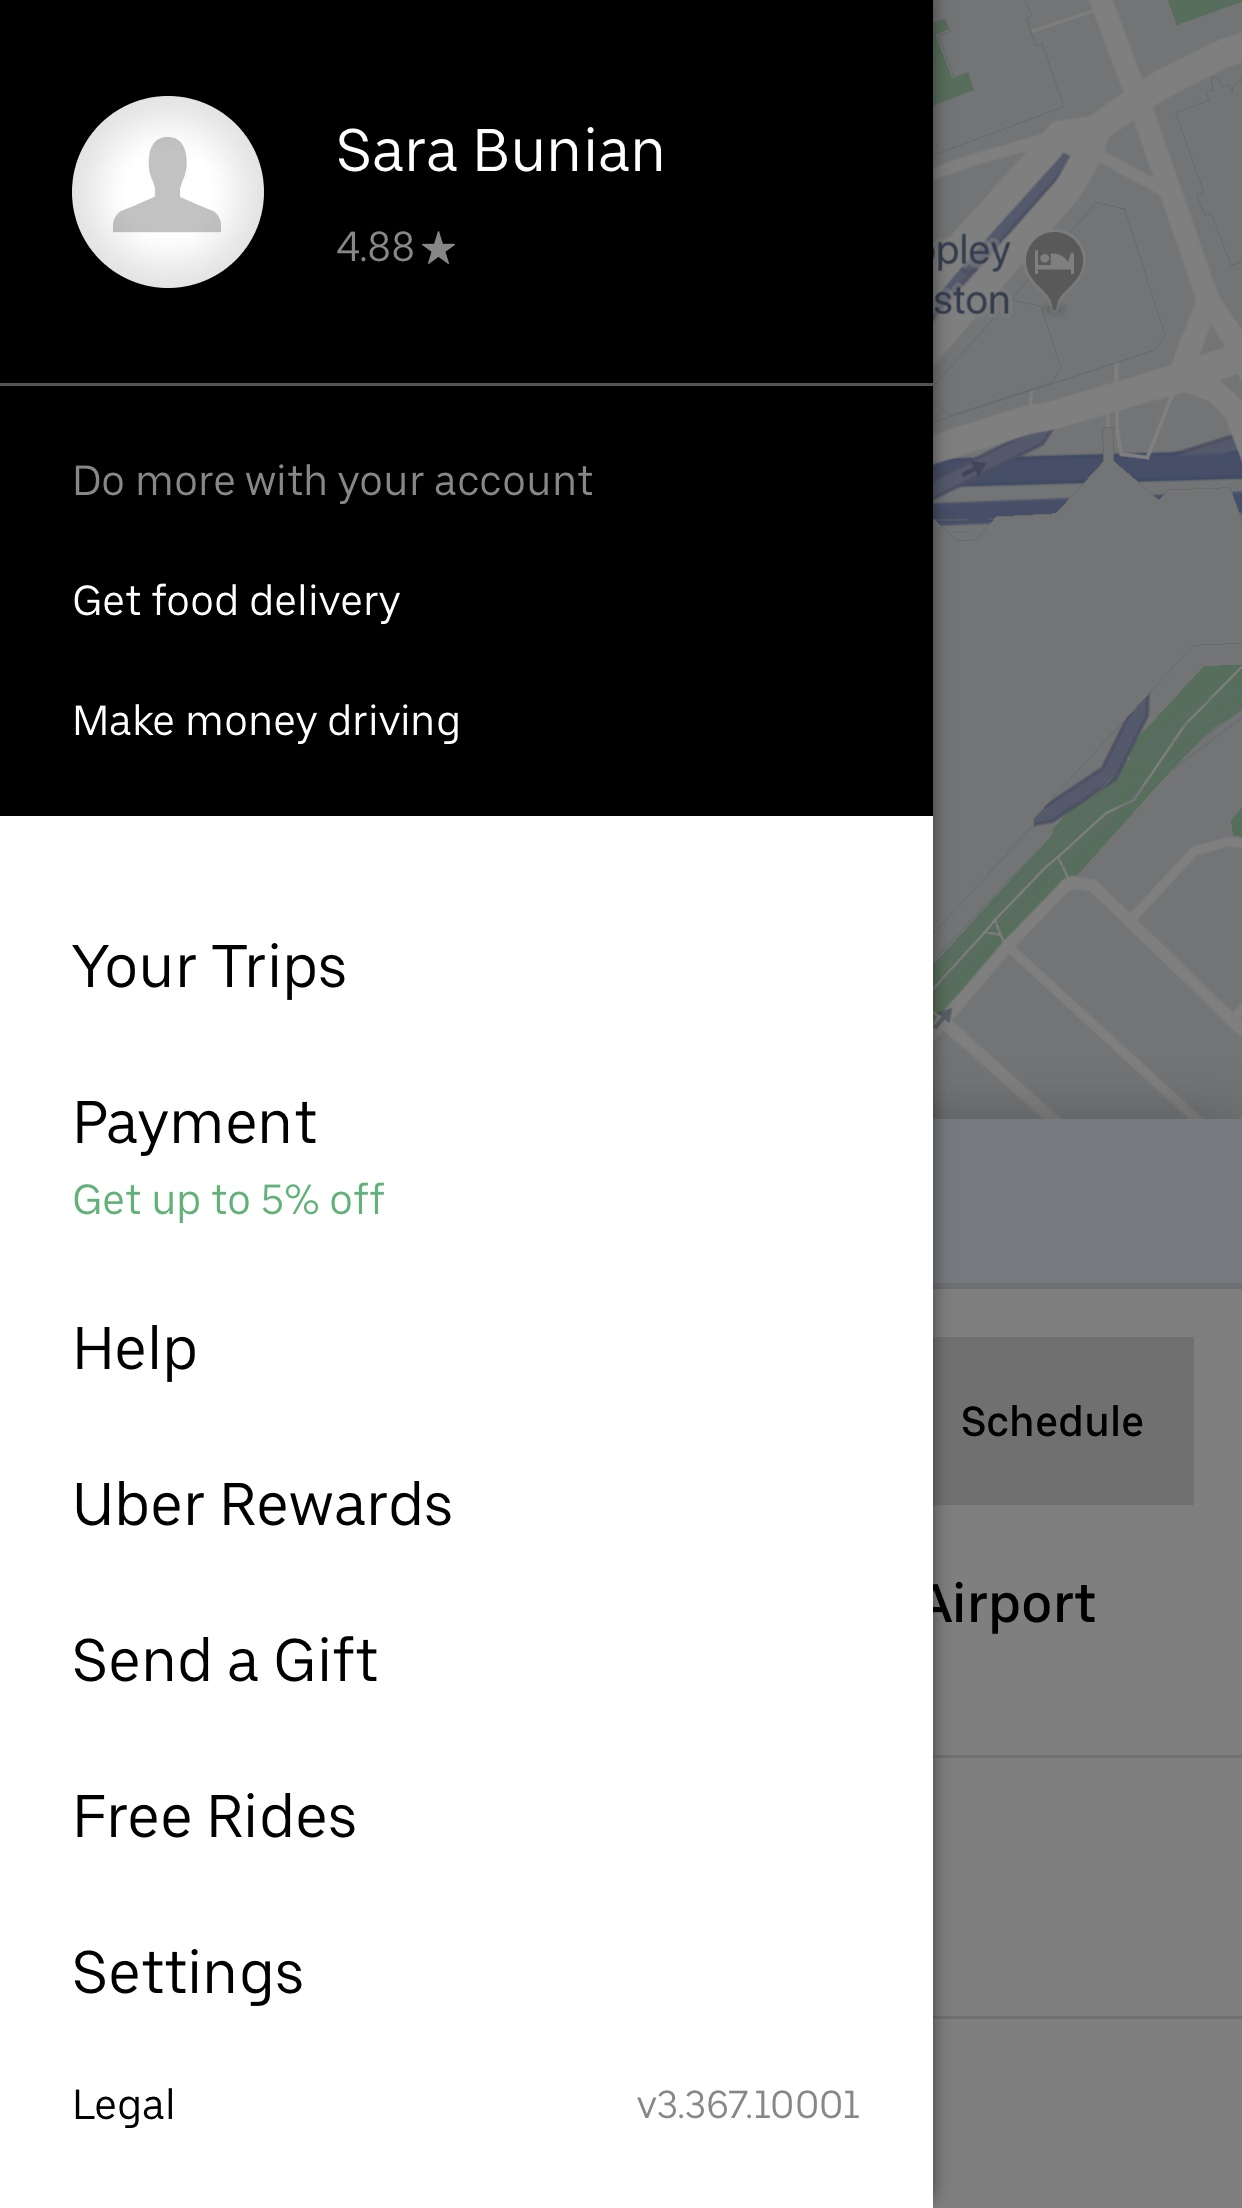Drawer: (2, 2, 933, 2208)
Icon: (71, 97, 265, 290), (423, 231, 456, 265)
Text: (76, 464, 593, 507), (77, 1480, 453, 1529), (71, 942, 346, 1002), (76, 704, 459, 746), (340, 127, 663, 174), (74, 1635, 379, 1683), (74, 584, 402, 626), (77, 1099, 318, 1157), (73, 1949, 303, 2008), (74, 1181, 387, 1224), (77, 1792, 356, 1839), (635, 2088, 860, 2120), (77, 1325, 197, 1385), (74, 2087, 174, 2129), (337, 231, 414, 262)
